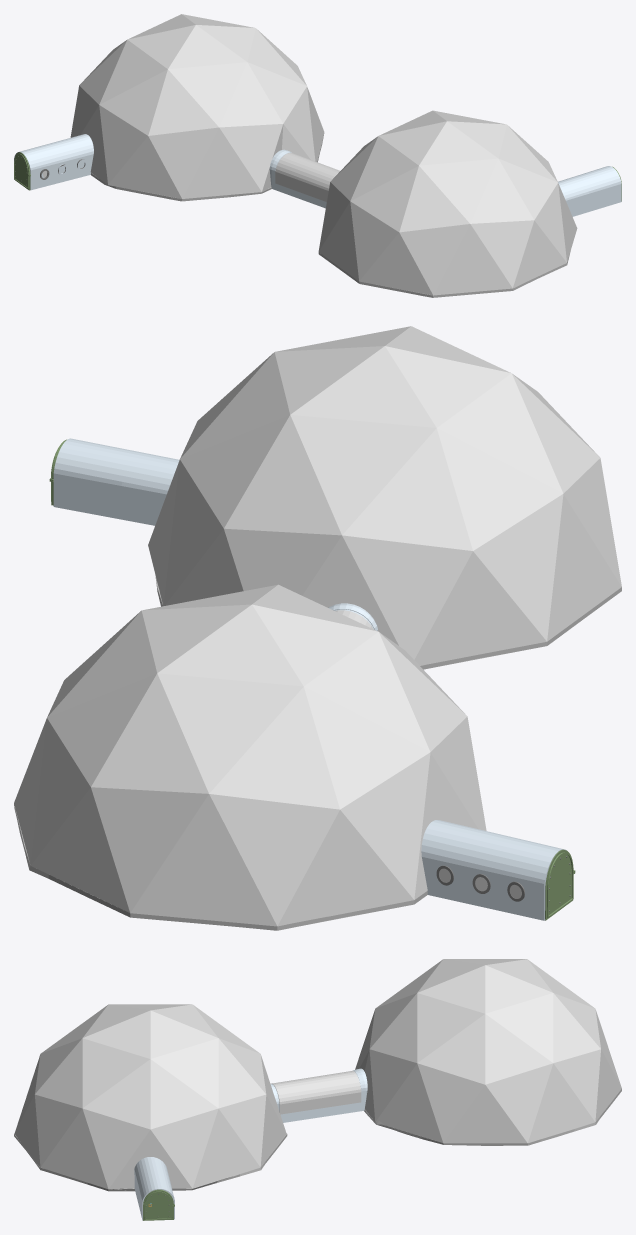
The model's file is Lab.fbx.
The picture shows the model from 3 angles, top to bottom: view 1: azimuth 30°, elevation 25°; view 2: azimuth 150°, elevation 25°; view 3: azimuth 270°, elevation 25°; orthographic projection. The views are drawn at different scales.
Visible parts, largest first — view 1: Lab Dome, Lab Dome.001, Tunnel.002, Tunnel.003, Glass, Tunnel.001, Door.001; view 2: Lab Dome.001, Lab Dome, Tunnel.002, Tunnel.003, Door.001, Circle; view 3: Lab Dome.001, Lab Dome, Glass, Tunnel.003, Tunnel.001, Entrance_Door.
Boxes of the visible parts, <box> form: Lab Dome: <box>318,110,577,297</box>; Lab Dome.001: <box>70,14,324,201</box>; Tunnel.002: <box>14,134,93,190</box>; Tunnel.003: <box>558,166,621,216</box>; Glass: <box>275,153,339,201</box>; Tunnel.001: <box>269,149,326,208</box>; Door.001: <box>14,152,30,190</box>; Lab Dome.001: <box>14,584,486,930</box>; Lab Dome: <box>148,326,621,669</box>; Tunnel.002: <box>421,820,566,920</box>; Tunnel.003: <box>53,438,179,525</box>; Door.001: <box>545,849,575,920</box>; Circle: <box>436,865,524,901</box>; Lab Dome.001: <box>355,959,621,1145</box>; Lab Dome: <box>14,1004,287,1191</box>; Glass: <box>271,1071,361,1114</box>; Tunnel.003: <box>134,1157,174,1220</box>; Tunnel.001: <box>270,1068,367,1122</box>; Entrance_Door: <box>143,1189,174,1220</box>.
Size of the model in its own units: 3170 by 853 by 3720.
